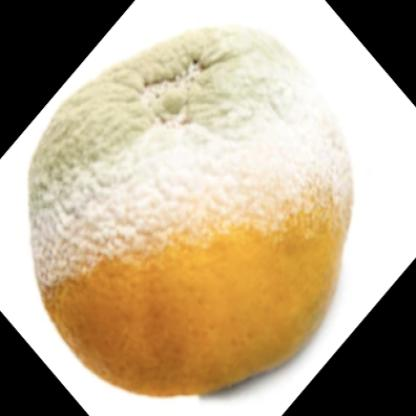rotten: (29, 25, 352, 396)
